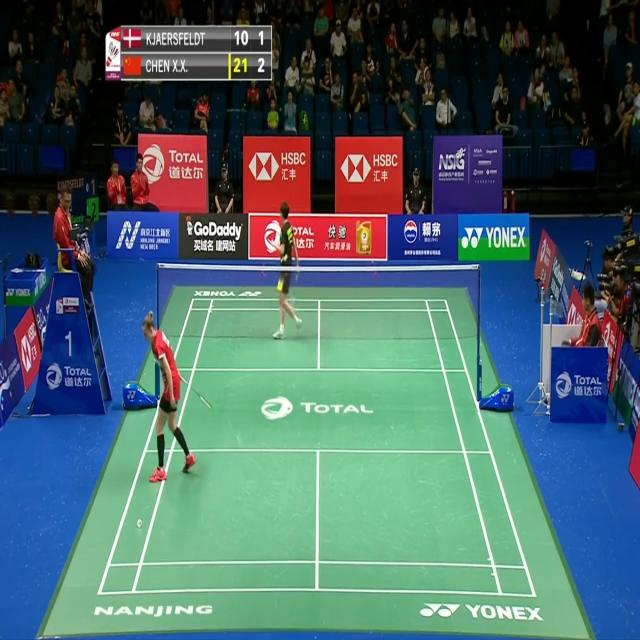Player1: (137, 300, 219, 490)
Player2: (263, 196, 306, 344)
